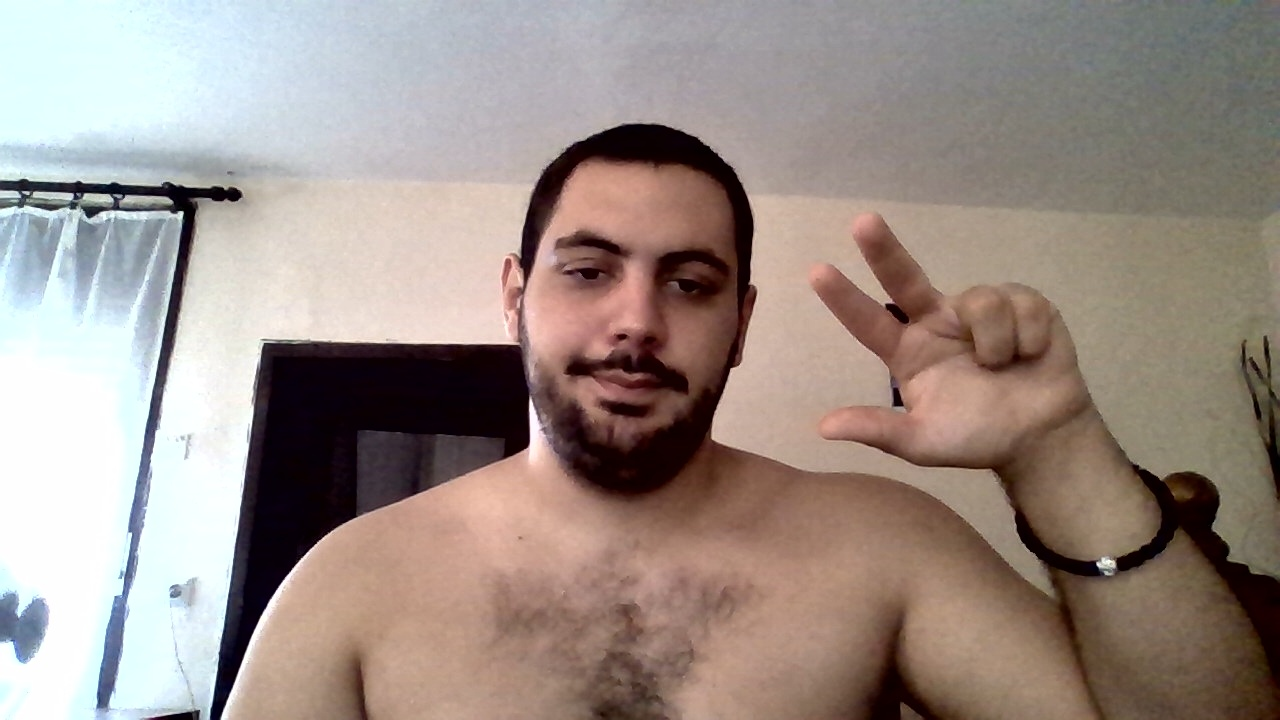serbia: (815, 212, 1090, 465)
